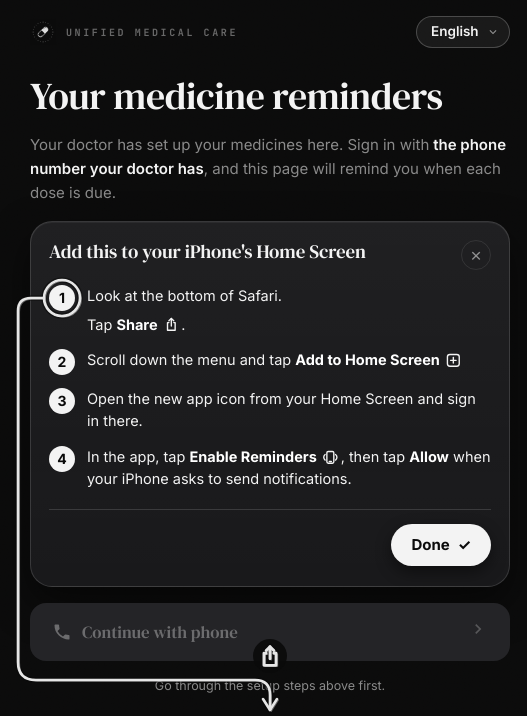
Test: RemindersPage — dismissing the install panel never strands the patient › closing it hides the steps but leaves a way back in
Click the button named "hide these steps" at [476, 255], box top-left (461, 240), bottom-right (491, 270)
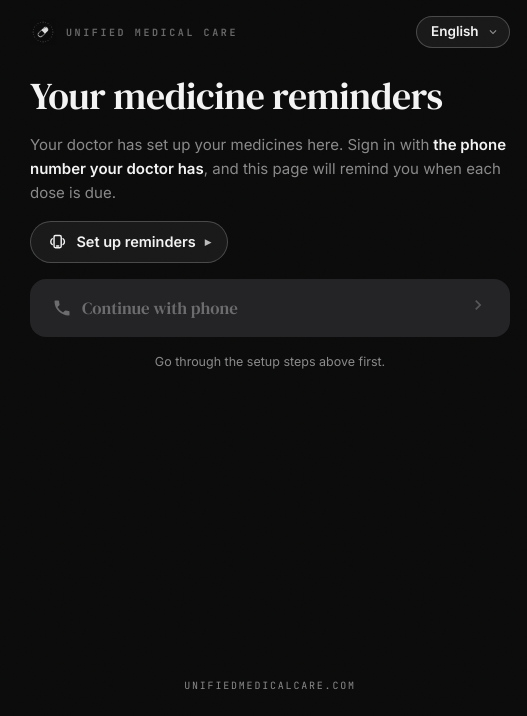
Result: the button "Set up reminders ▸" is shown at top-left (30, 221), bottom-right (228, 263)
Result: the text "Add to Home Screen" is gone
